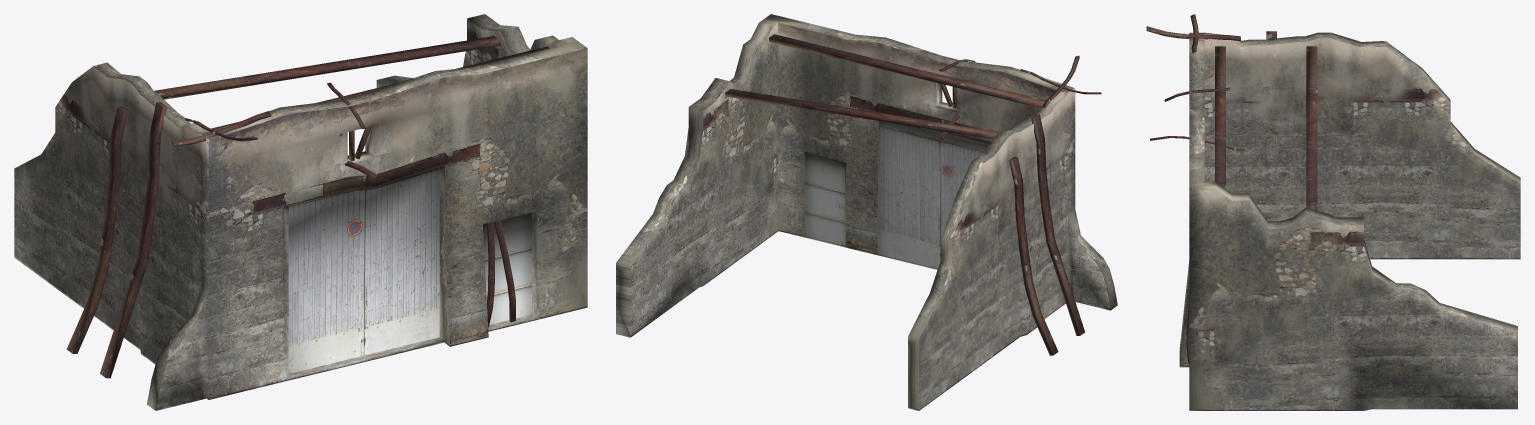
File: war_torn2.obj
The picture shows the model from 3 angles, left to right: view 1: azimuth 30°, elevation 25°; view 2: azimuth 150°, elevation 25°; view 3: azimuth 270°, elevation 25°; orthographic projection. The views are drawn at different scales.
Visible parts, largest first — view 1: worn_torn2; view 2: worn_torn2; view 3: worn_torn2.
Boxes of the visible parts, x1,y1,x2,y2 form: worn_torn2: [14, 14, 587, 410]; worn_torn2: [616, 14, 1117, 410]; worn_torn2: [1146, 14, 1520, 410].
Bounding box in the file's own units: 338 × 206 × 295.
1 material, 1 textured.
